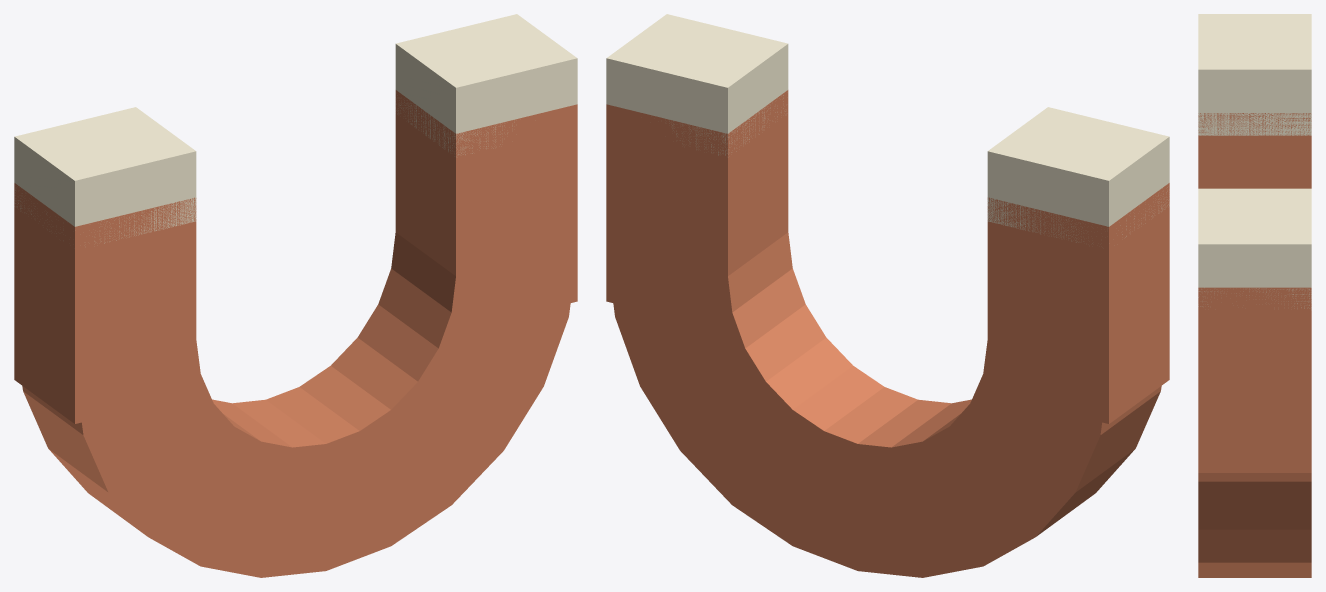
File: magnet.glb
The picture shows the model from 3 angles, left to right: view 1: azimuth 30°, elevation 25°; view 2: azimuth 150°, elevation 25°; view 3: azimuth 270°, elevation 25°; orthographic projection. The views are drawn at different scales.
Visible parts, largest first — view 1: collectible; view 2: collectible; view 3: collectible.
Part boxes in pixels (x1,y1,x2,y2): collectible: (14,14,577,577); collectible: (606,14,1169,577); collectible: (1198,14,1311,577).
Bounding box in the file's own units: 1.2 × 1.03 × 0.25.
